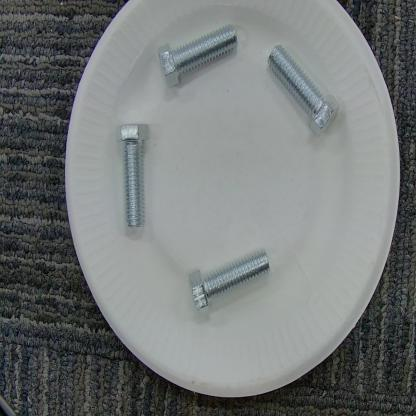FOD: (264, 40, 345, 148), (186, 243, 279, 318), (157, 16, 243, 95), (112, 116, 160, 243)
